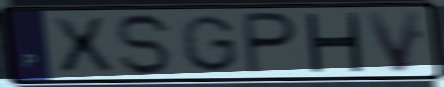G: (178, 13, 241, 75)
H: (302, 11, 366, 74)
P: (241, 10, 300, 77)
S: (113, 11, 176, 78)
V: (361, 8, 425, 75)
X: (47, 15, 119, 76)
